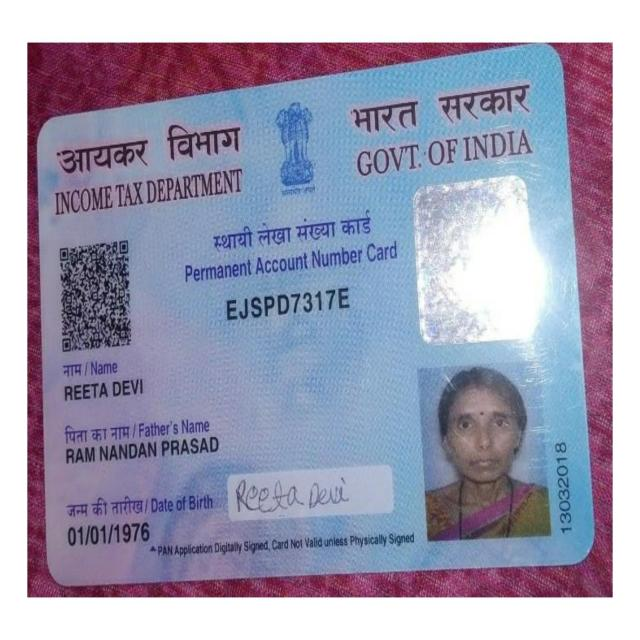pan_card: (38, 54, 585, 581)
